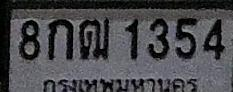1: (124, 18, 138, 59)
3: (148, 16, 169, 58)
4: (203, 18, 224, 59)
5: (176, 16, 197, 58)
8: (19, 19, 40, 60)
A01: (47, 18, 72, 60)
A18: (78, 17, 110, 59)
BKK: (42, 75, 197, 92)
